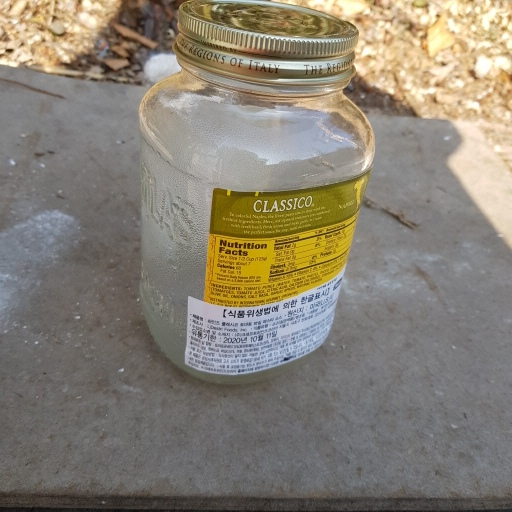Glass_5: (132, 2, 378, 379)
